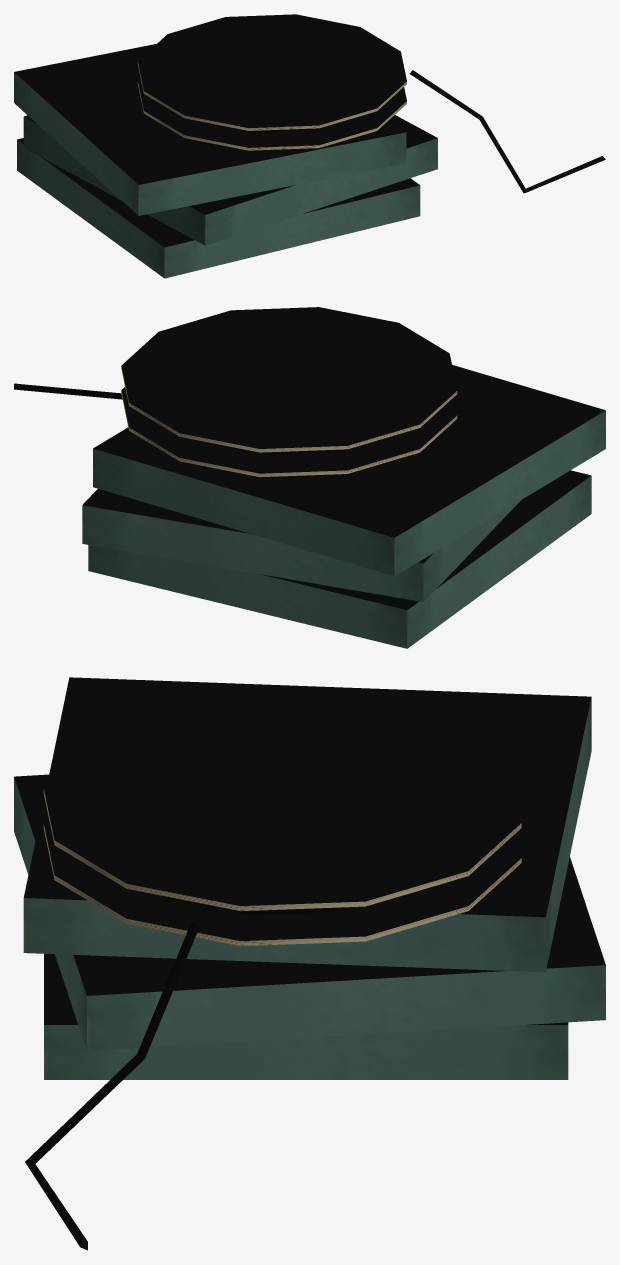
File: tape_reels.fbx
The picture shows the model from 3 angles, top to bottom: view 1: azimuth 30°, elevation 25°; view 2: azimuth 150°, elevation 25°; view 3: azimuth 270°, elevation 25°; orthographic projection. The views are drawn at different scales.
Visible parts, largest first — view 1: tape_reels; view 2: tape_reels; view 3: tape_reels.
Boxes of the visible parts, bbox=[...] form: tape_reels: bbox=[14, 14, 605, 278]; tape_reels: bbox=[14, 307, 605, 648]; tape_reels: bbox=[14, 677, 605, 1250].
Bounding box in the file's own units: 0.3494 × 0.0827 × 0.2146.
